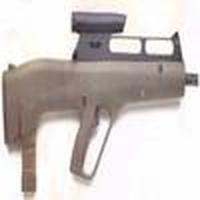gun: (1, 39, 198, 158)
